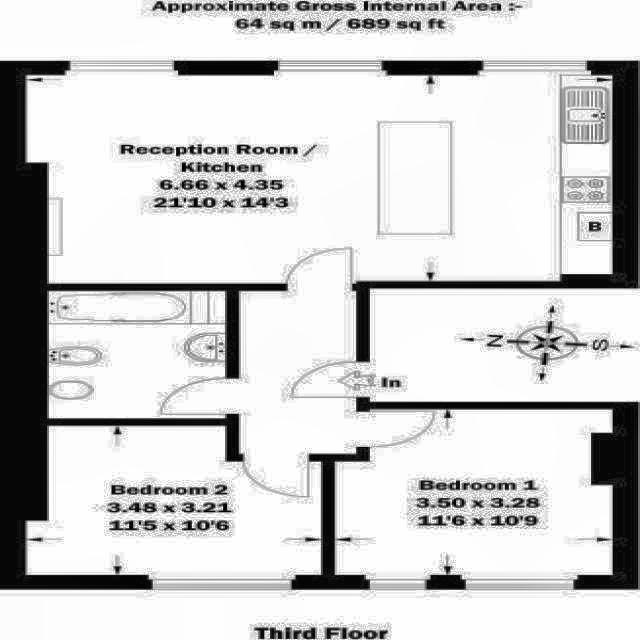room: (26, 75, 613, 282), (334, 410, 613, 575), (26, 425, 321, 573), (370, 290, 640, 401), (46, 291, 222, 418), (239, 290, 356, 453)
